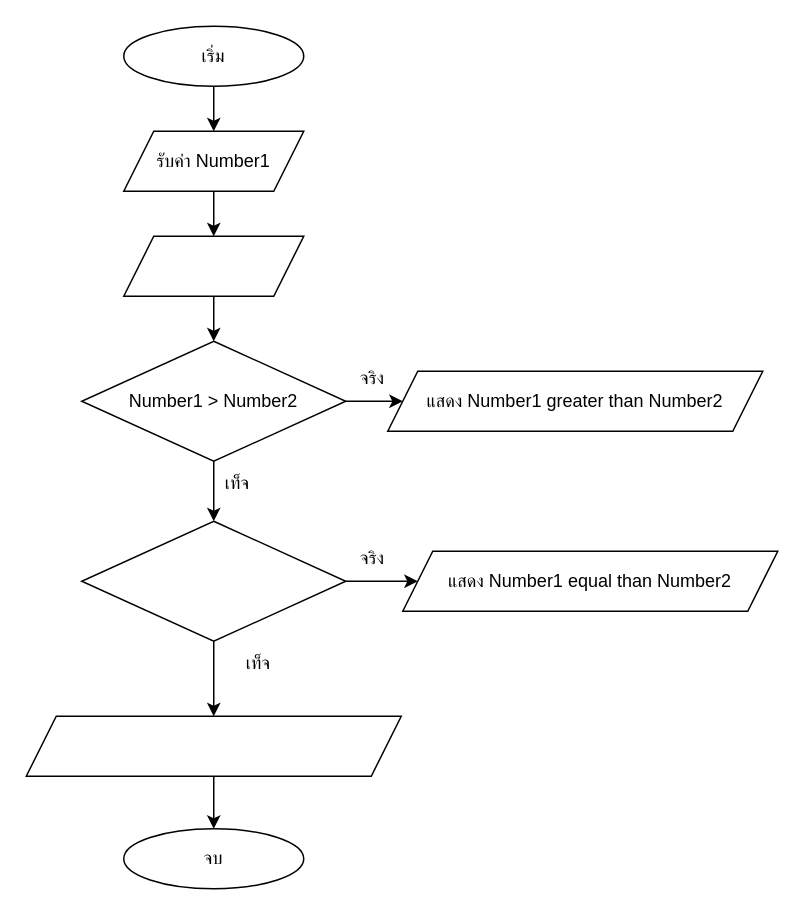
Image size: 804x915. Some labels were removed from this diagram. The box of each missing label's shape, as (x1, y1, x2, y2) in pixels:
Number1 == Number2: (80, 520, 346, 641)
รับค่า Number2: (122, 235, 304, 296)
แสดง Number1 lower than Number2: (25, 715, 401, 776)
